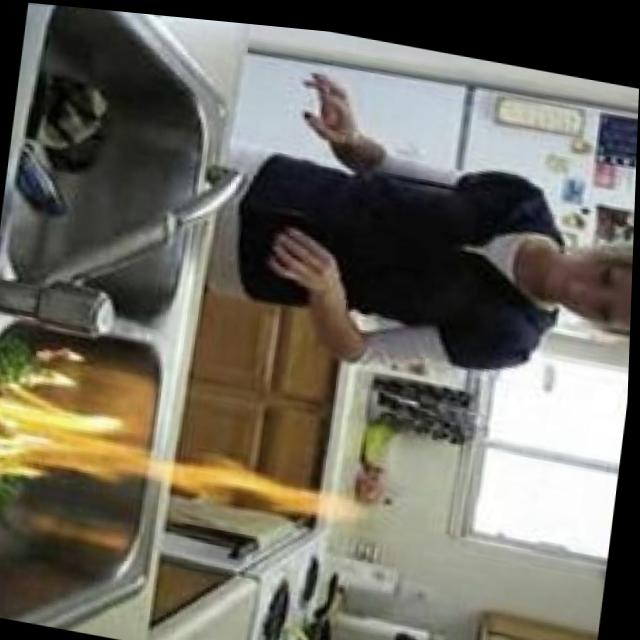Fire: (0, 380, 379, 538), (6, 335, 90, 394)
